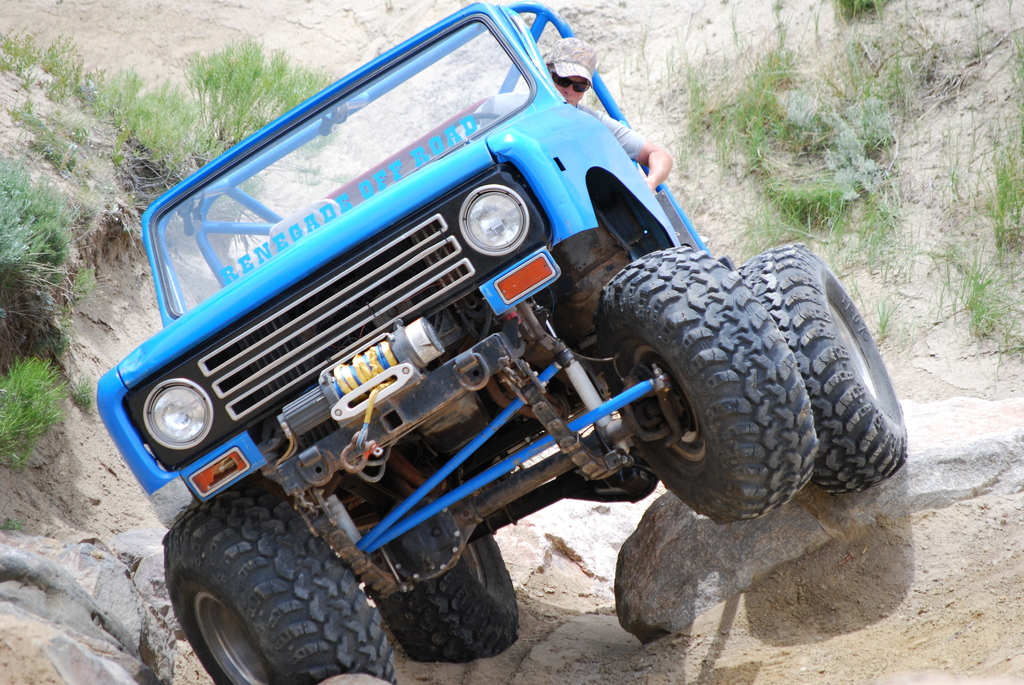person: (538, 34, 677, 192)
